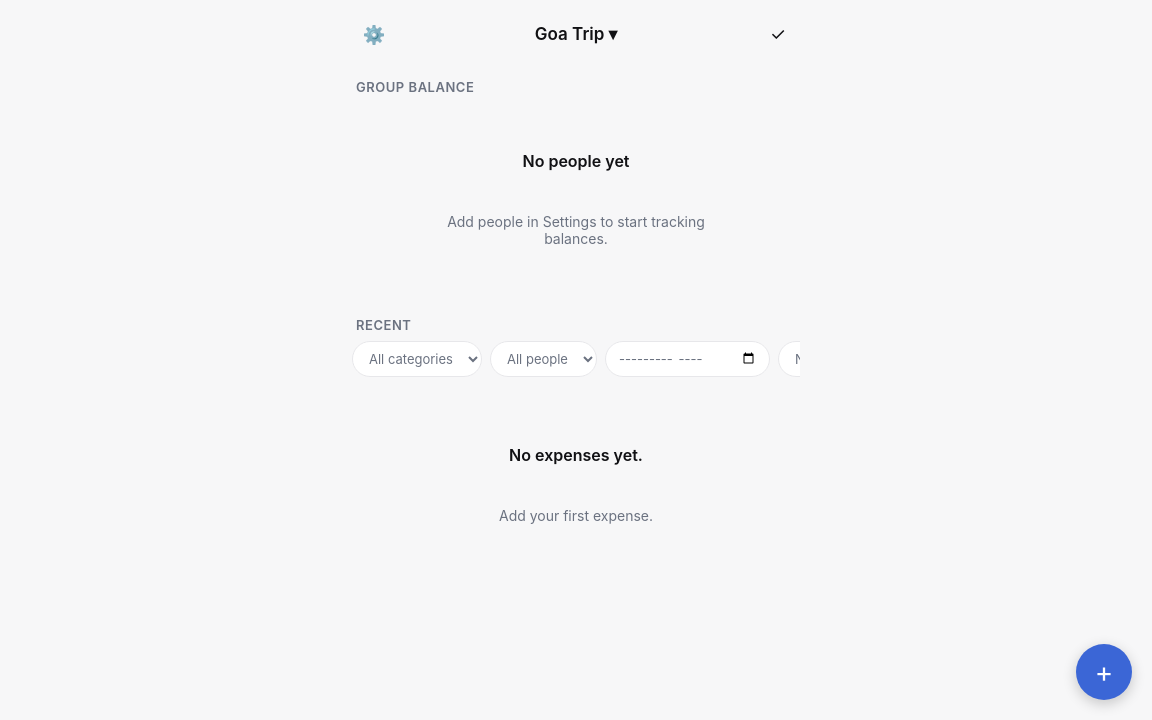
it: App navigation › navigates to Settings and Settlement from the Home header
This screenshot has width=1152, height=720.
Check: the button "Goa Trip ▾" is shown, box [404,24,748,44]
Click the button named "Group settings".
click(374, 34)  # box [352,12,396,56]
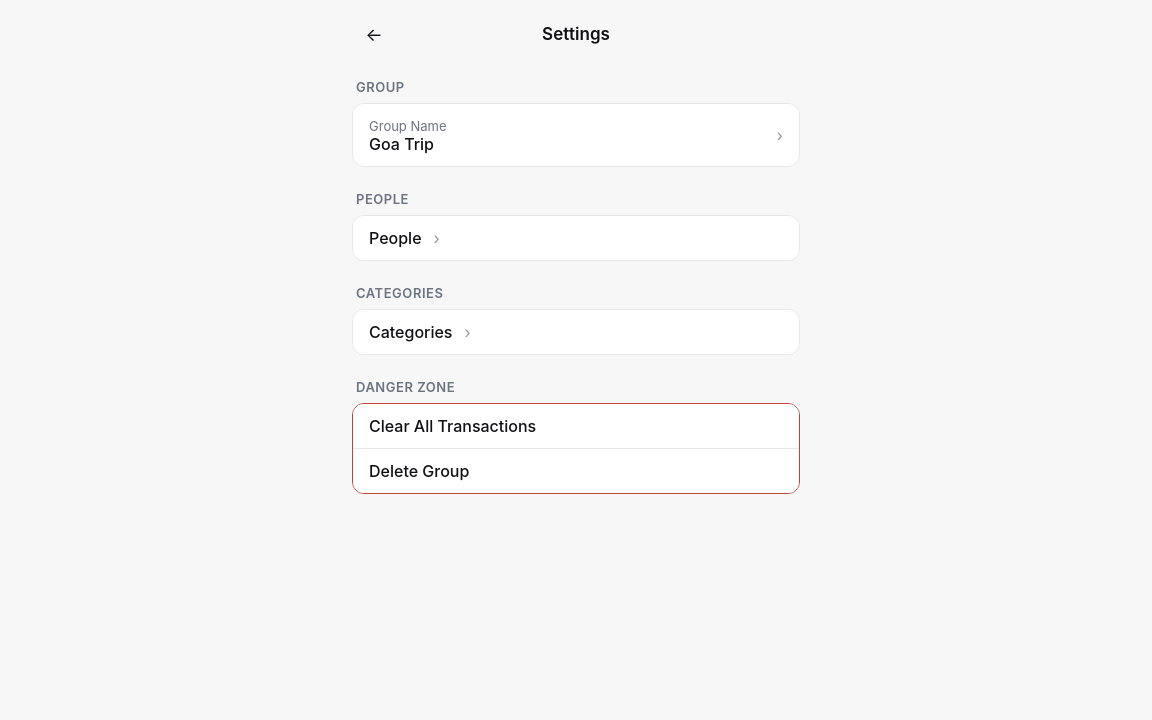
Check: the text "Settings" is shown, box [542,24,610,44]
Click the button named "Back".
click(374, 34)  # box [352,12,396,56]
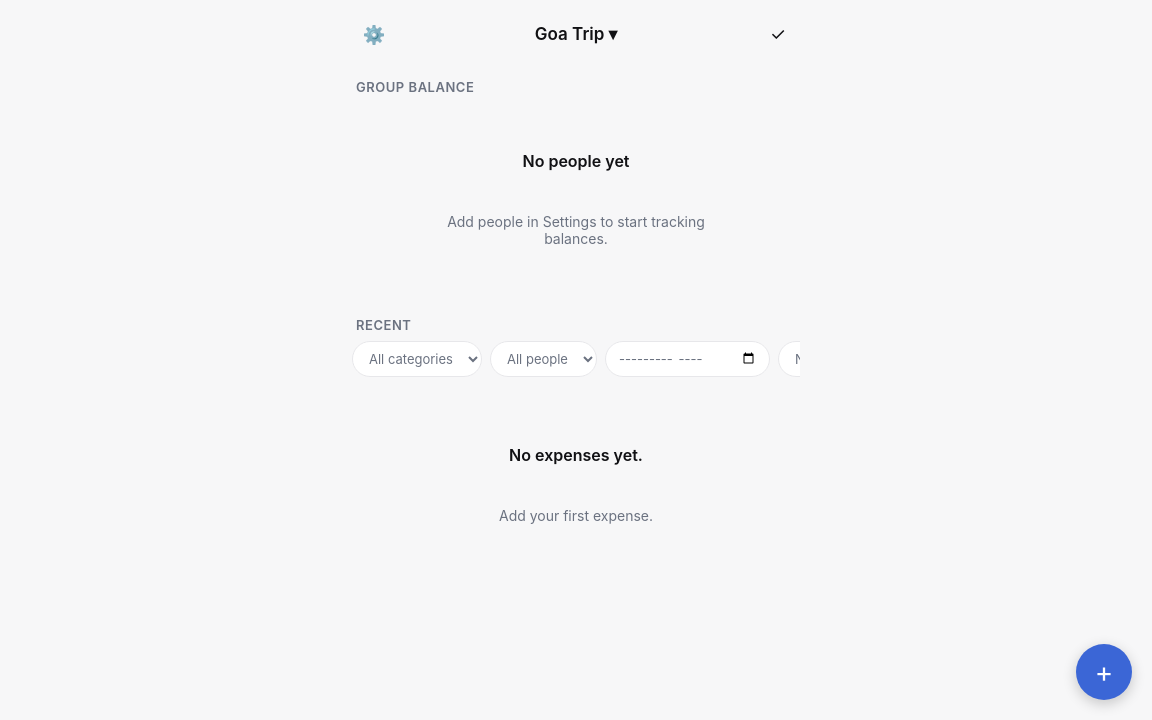
Check: the button "Goa Trip ▾" is shown, box [404,24,748,44]
Click the button named "Settlement".
click(778, 34)  # box [756,12,800,56]
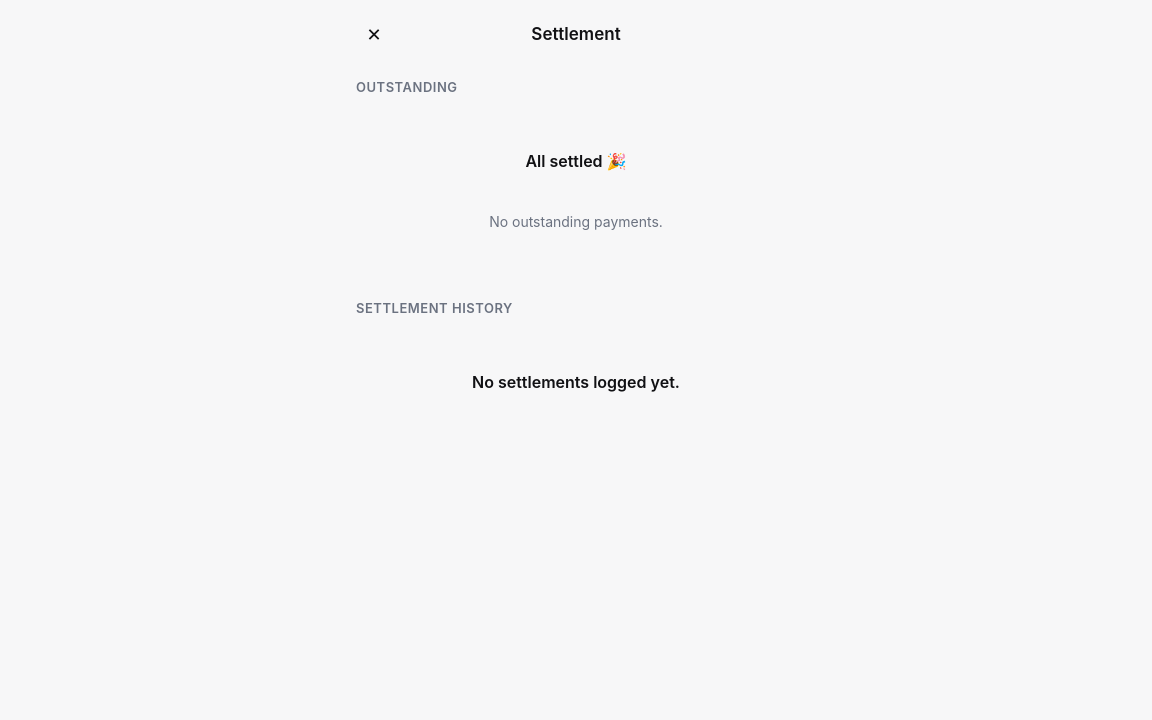
Check: the heading "Outstanding" is shown, box [356,79,458,95]
